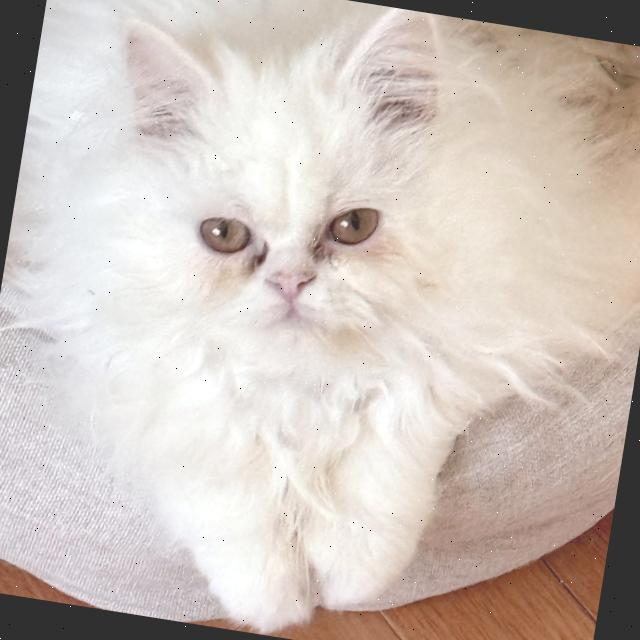persian_cat: (34, 0, 504, 442)
